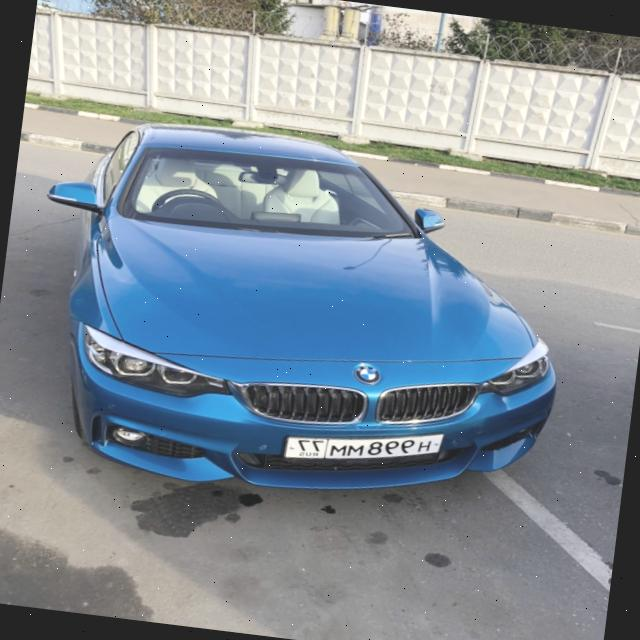number-plates: (280, 412, 446, 485)
